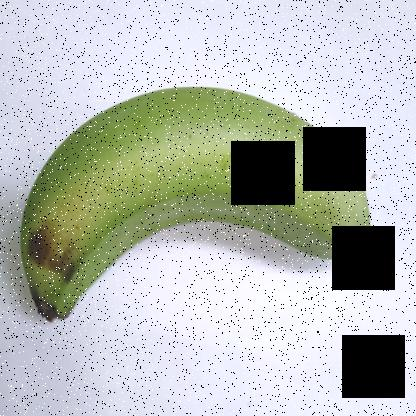freshunripe: (9, 74, 385, 332)
